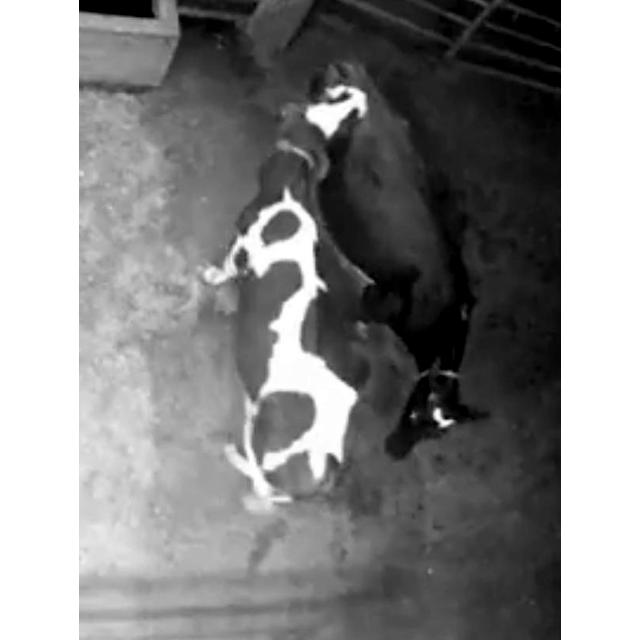propping: (252, 76, 398, 190)
